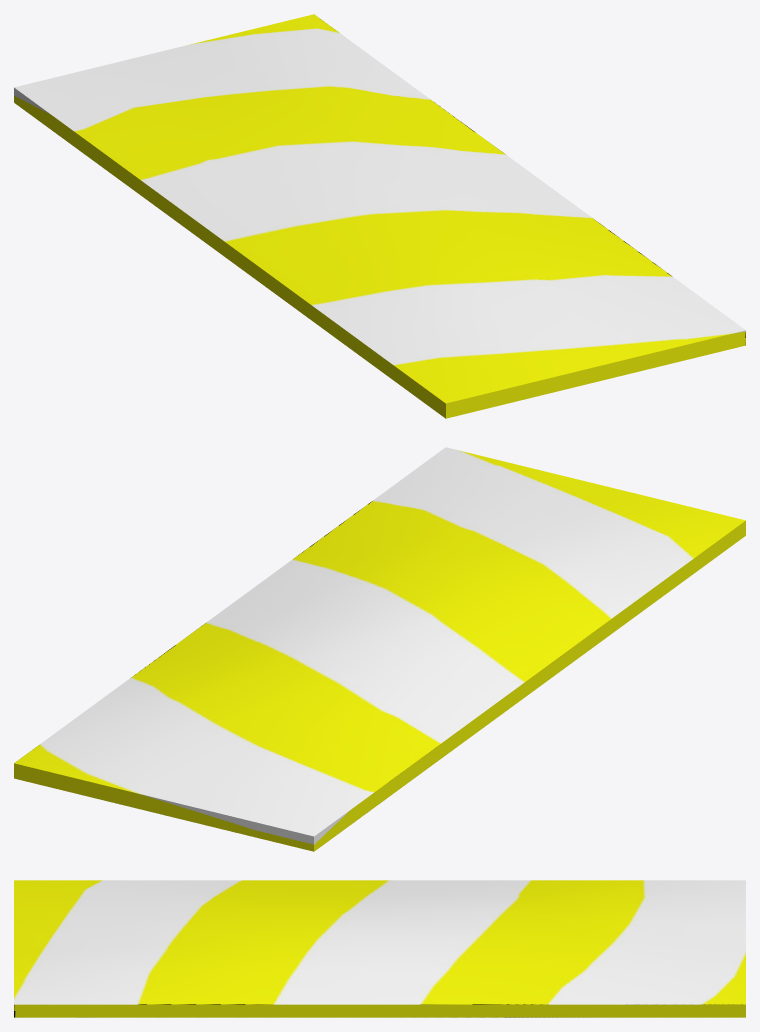
Rendered from 과속 방지턱1.fbx.
3 renders of one model, top to bottom at view 1: azimuth 30°, elevation 25°; view 2: azimuth 150°, elevation 25°; view 3: azimuth 270°, elevation 25°, orthographic. The views are drawn at different scales.
Visible parts, largest first — view 1: Box001; view 2: Box001; view 3: Box001.
Boxes of the visible parts, x1,y1,x2,y2 form: Box001: (14,14,745,418); Box001: (14,447,745,851); Box001: (14,880,745,1017).
Size of the model in its own units: 32.3 by 80.5 by 3.44.
Materials: 1 (1 with a texture image).
